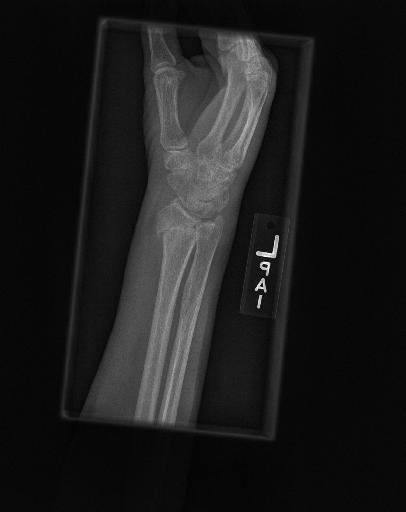fractured: (158, 216, 199, 244)
